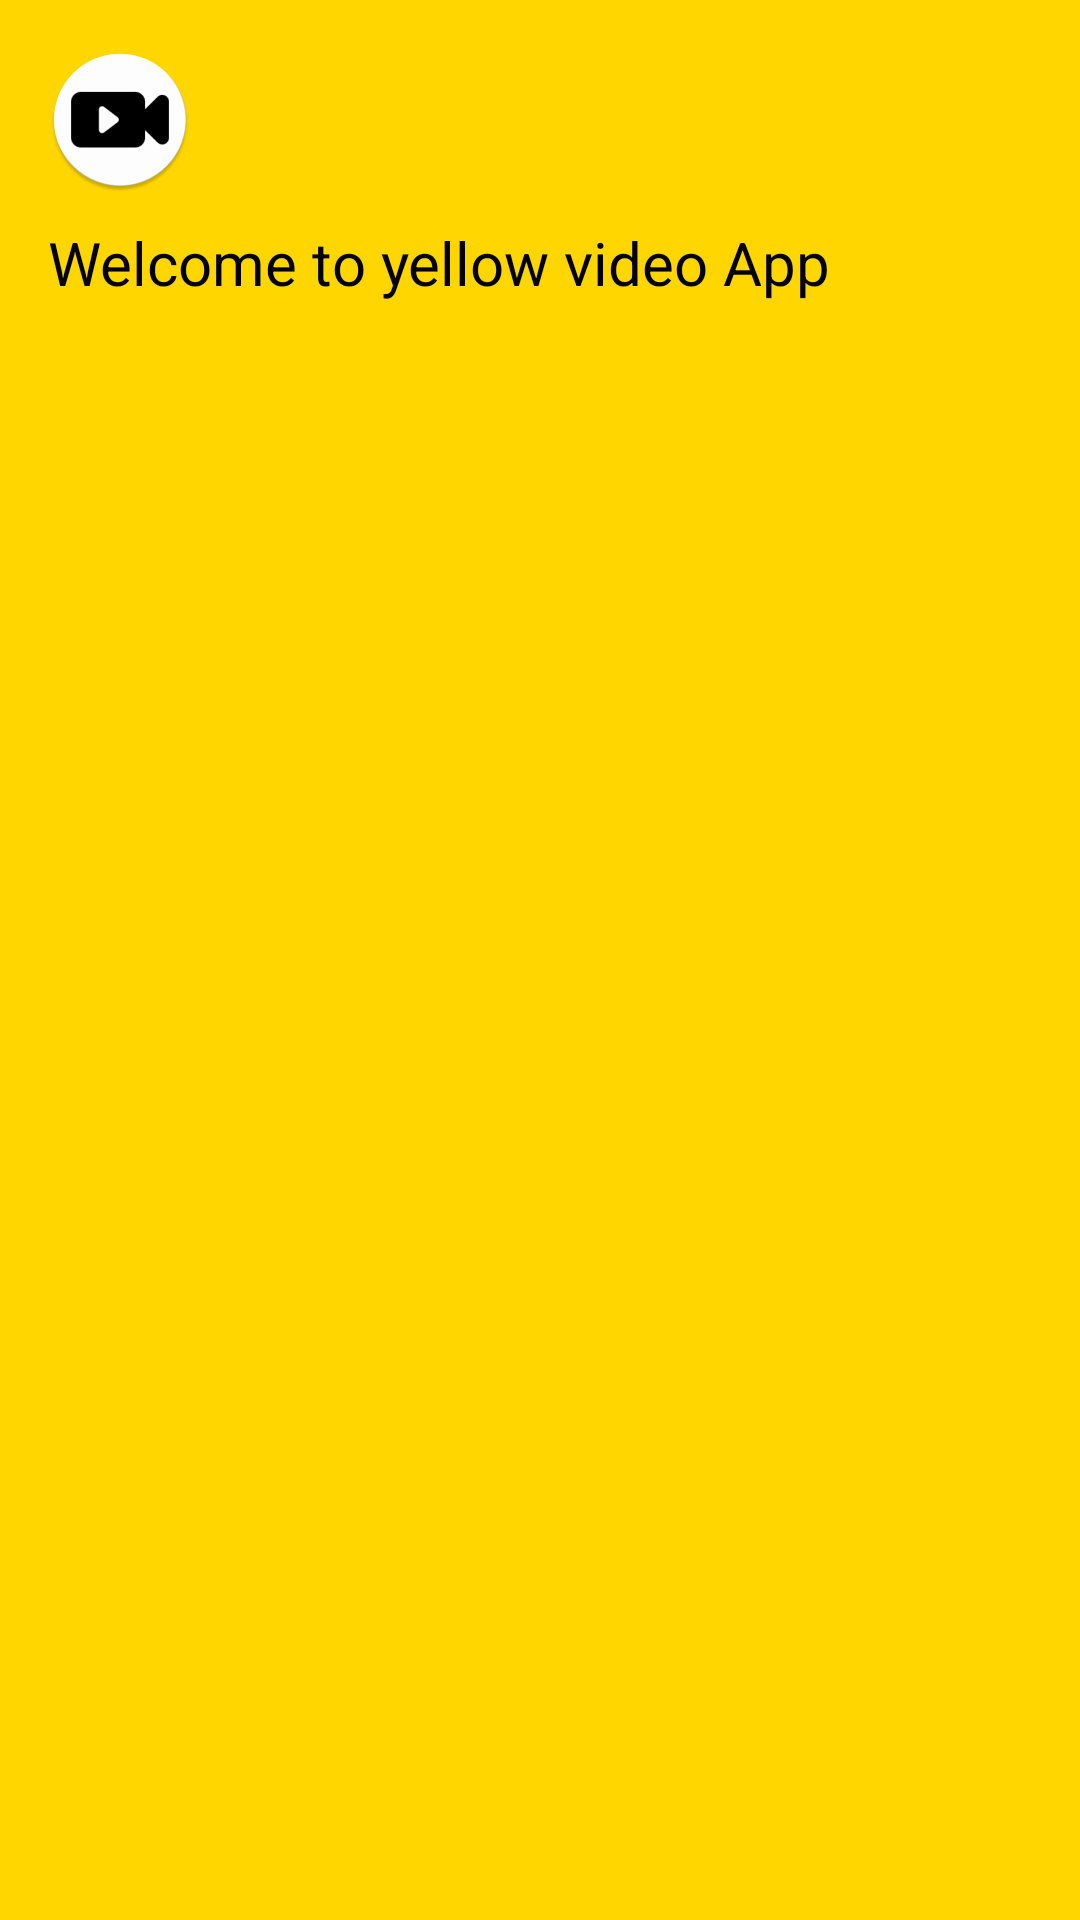

Where icons sit on this 1080px x 1920px app screen, as (x1, y1, x2, y2):
video player: (53, 53, 187, 189)
